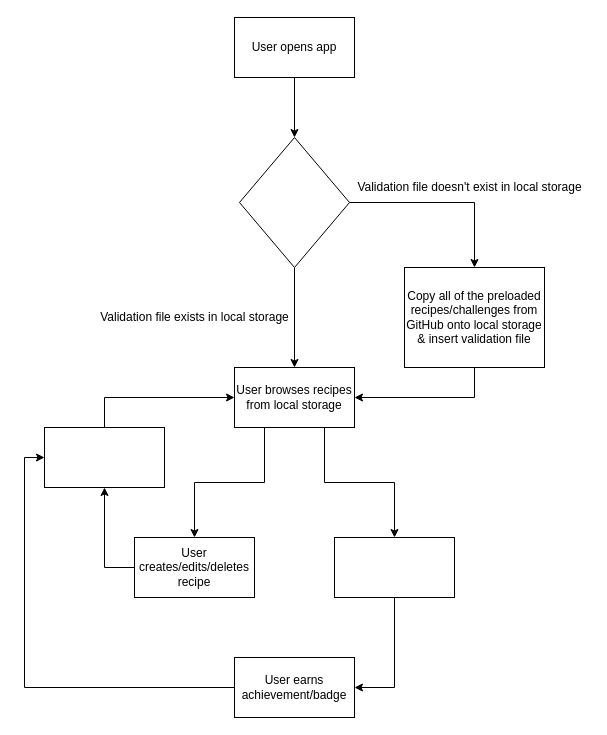
Some shapes in this 607 by 735 pixel diagram are drawn without their labels. Here are the shapes that lost their labels. From the top down, the box of each, then its label:
(238, 136, 350, 268): Has user opened app before
(44, 426, 164, 488): Changes reflected onto local storage
(334, 536, 454, 598): User completes challenge
